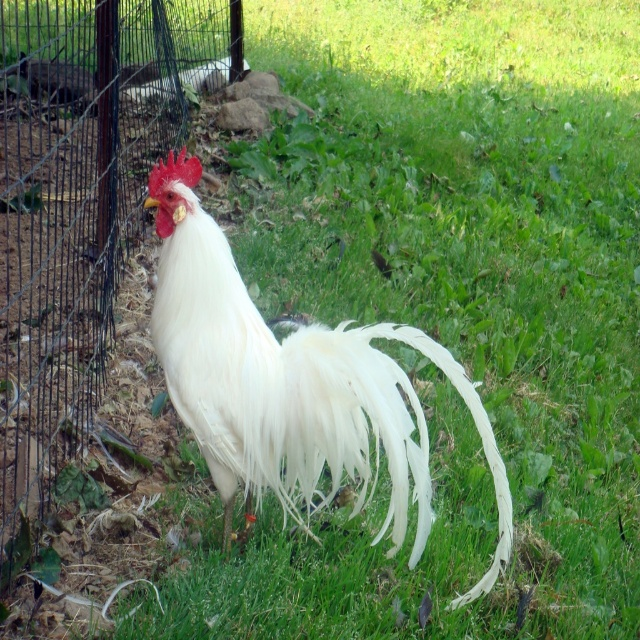Chicken: (142, 140, 512, 613)
